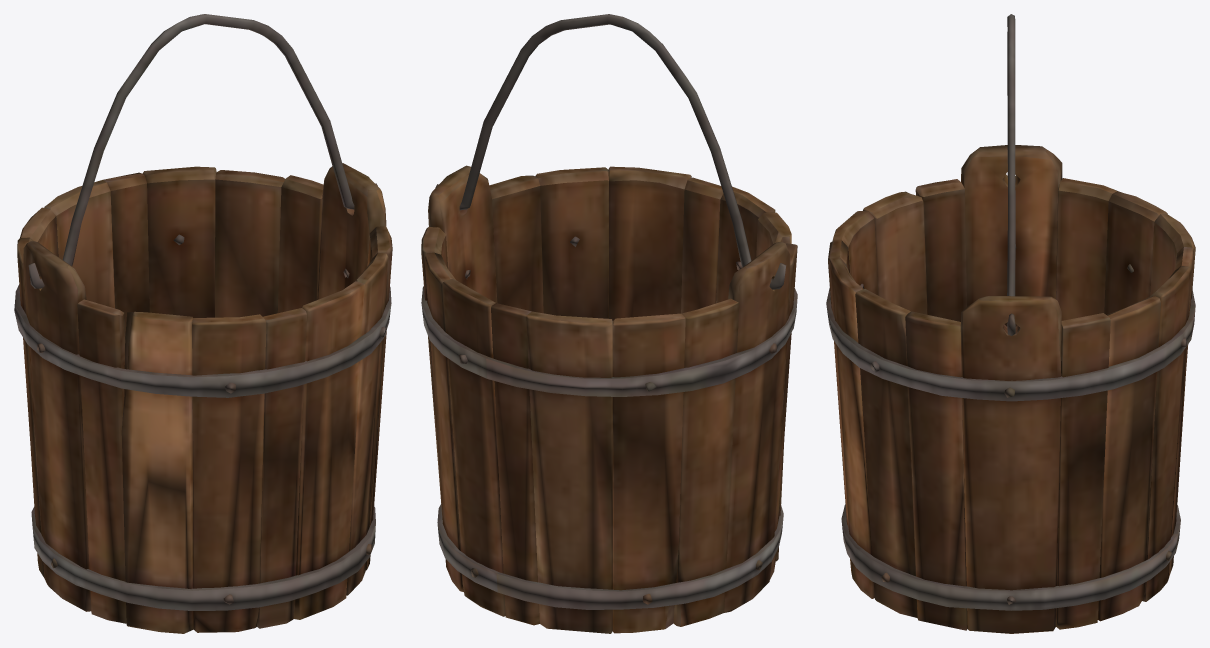
Rendered from ph-wooden-bucket-01.lod1.glb.
3 views of the same model, side by side, from view 1: azimuth 30°, elevation 25°; view 2: azimuth 150°, elevation 25°; view 3: azimuth 270°, elevation 25° (orthographic).
Parts seen in each view (by area): view 1: wooden_bucket_01, wooden_bucket_01_handle; view 2: wooden_bucket_01, wooden_bucket_01_handle; view 3: wooden_bucket_01, wooden_bucket_01_handle.
Part boxes in pixels (x1,y1,x2,y2): wooden_bucket_01: [14, 163, 392, 633]; wooden_bucket_01_handle: [28, 14, 377, 288]; wooden_bucket_01: [421, 165, 797, 633]; wooden_bucket_01_handle: [435, 14, 786, 289]; wooden_bucket_01: [826, 145, 1195, 633]; wooden_bucket_01_handle: [1007, 14, 1015, 335].
Bounding box in the file's own units: 0.3663 × 0.5499 × 0.3407.
Materials: 1 (1 with a texture image).
